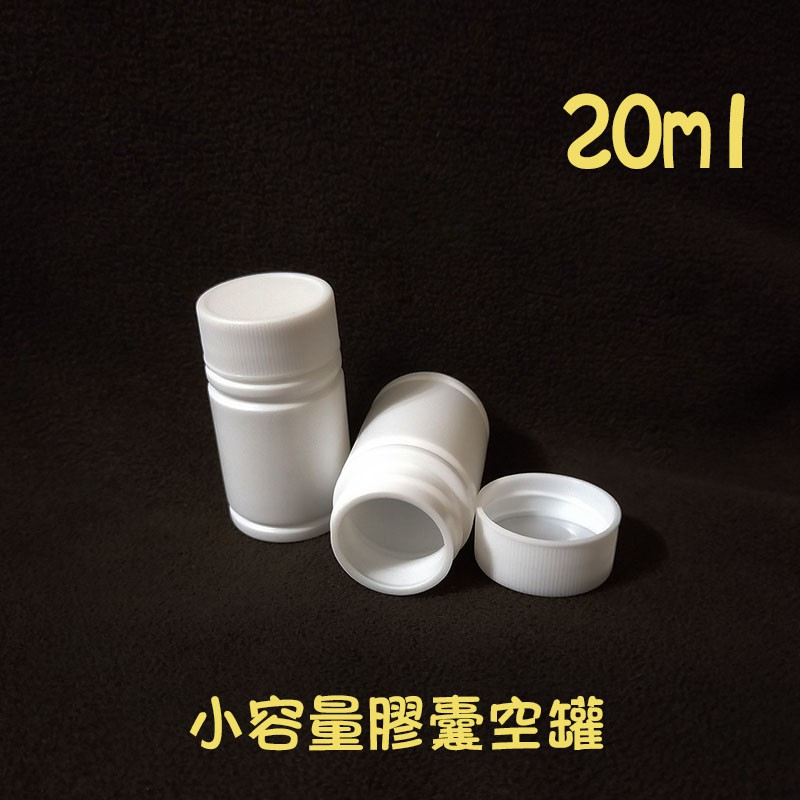medicinejar: (191, 259, 362, 541), (336, 363, 486, 604)
